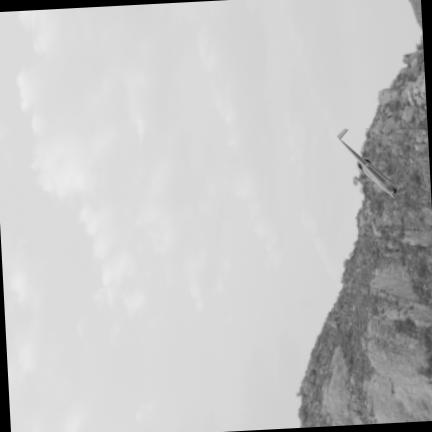Shahed: (342, 142, 400, 197), (338, 129, 347, 139)
